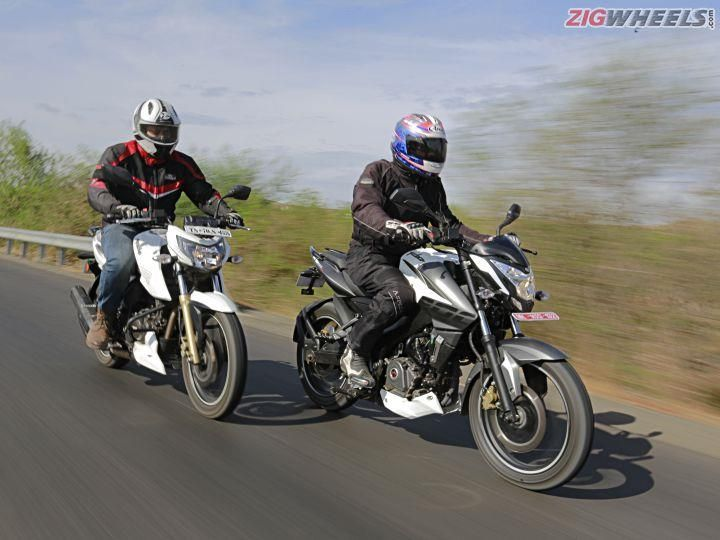helmet: (393, 109, 446, 176), (132, 92, 180, 158)
